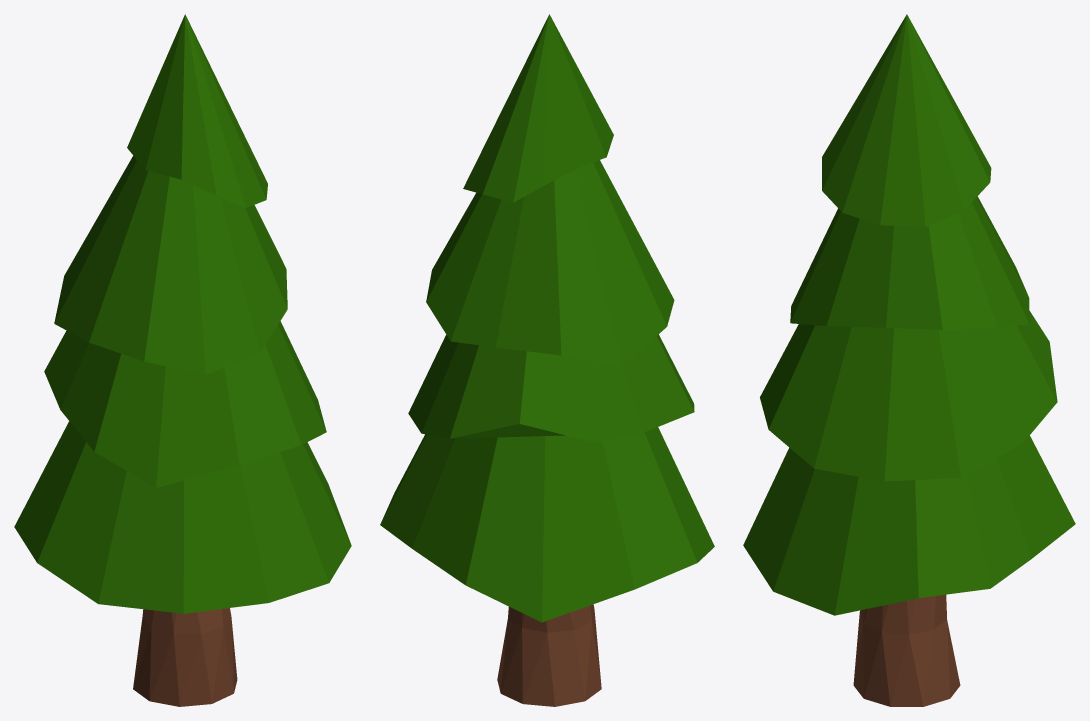
Rendered from Spruce.fbx.
3 views of the same model, side by side, from view 1: azimuth 30°, elevation 25°; view 2: azimuth 150°, elevation 25°; view 3: azimuth 270°, elevation 25° (orthographic).
Visible parts, largest first — view 1: El; view 2: El; view 3: El.
Part boxes in pixels (bbox=[...]): El: bbox=[14, 14, 351, 706]; El: bbox=[380, 14, 714, 706]; El: bbox=[743, 14, 1075, 706].
Bounding box in the file's own units: 643 × 1386 × 622.
